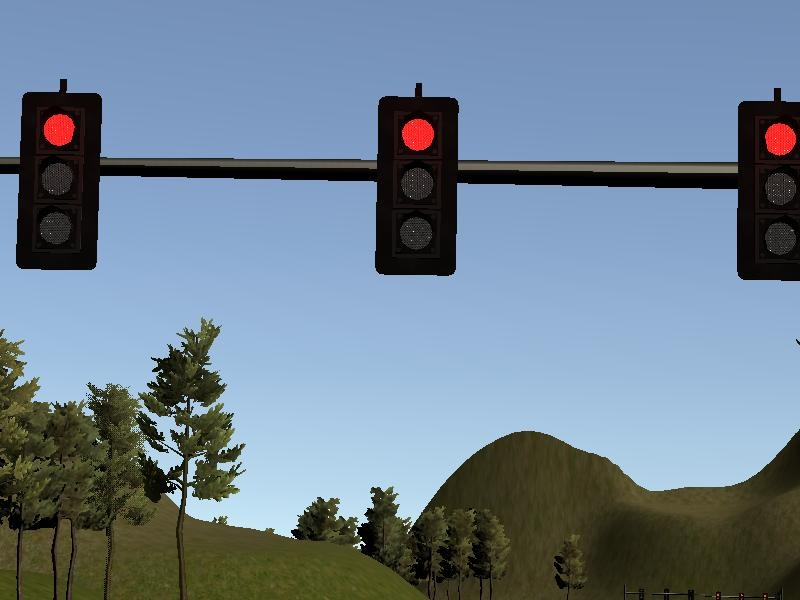RED: (375, 96, 459, 275), (16, 93, 100, 272), (735, 101, 800, 280)
